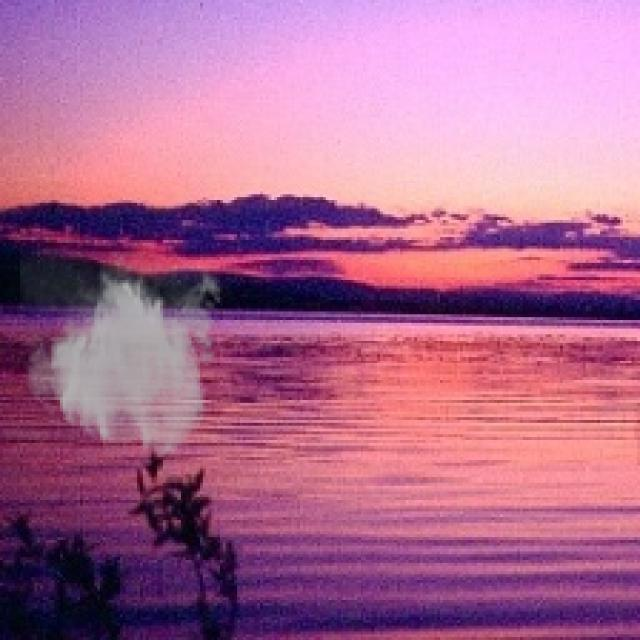Smoke: (20, 252, 229, 459)
